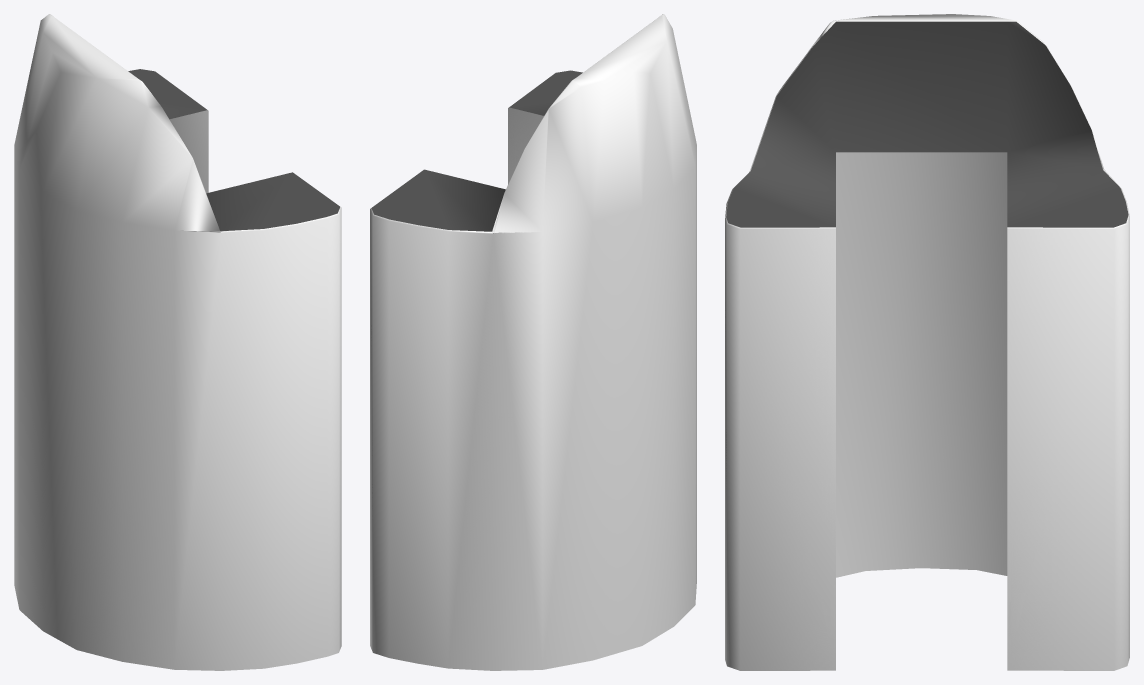
File: body_light.dae
3 views of the same model, side by side, from view 1: azimuth 30°, elevation 25°; view 2: azimuth 150°, elevation 25°; view 3: azimuth 270°, elevation 25° (orthographic).
Parts seen in each view (by area): view 1: Body, Shoulder; view 2: Body, Shoulder; view 3: Body, Shoulder.
Part boxes in pixels (box(x1,y1,x2,y2)): Body: box(14, 14, 341, 670); Shoulder: box(128, 69, 339, 231); Body: box(370, 14, 696, 670); Shoulder: box(371, 70, 582, 231); Body: box(725, 14, 1129, 670); Shoulder: box(726, 21, 1128, 227).
Size of the model in its own units: 0.2173 by 0.3615 by 0.5659.
2 materials, 2 textured.
